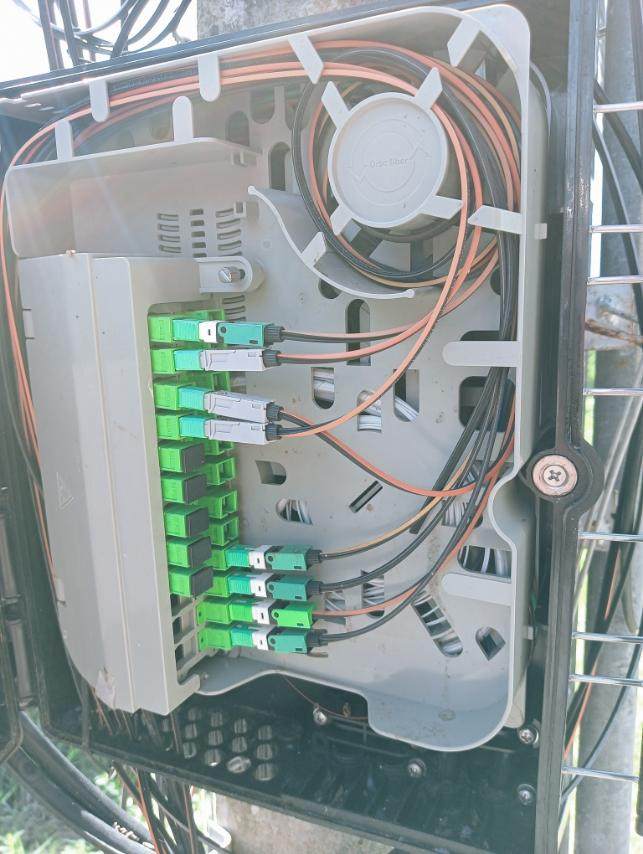no dust cap: (213, 412, 231, 435), (212, 371, 230, 393), (209, 336, 227, 358), (221, 519, 239, 541), (221, 493, 239, 515), (216, 461, 234, 483), (215, 432, 232, 455), (207, 309, 224, 331)
no port: (171, 608, 195, 646), (173, 634, 196, 672), (169, 584, 193, 618)
occupied: (175, 386, 297, 428), (170, 317, 292, 351), (178, 420, 297, 452), (171, 347, 293, 374), (228, 629, 328, 659), (226, 604, 336, 629), (223, 546, 333, 570), (225, 577, 328, 602)
vacant: (186, 506, 210, 536), (181, 443, 205, 473), (182, 474, 206, 504), (190, 567, 214, 597), (188, 538, 212, 568)
